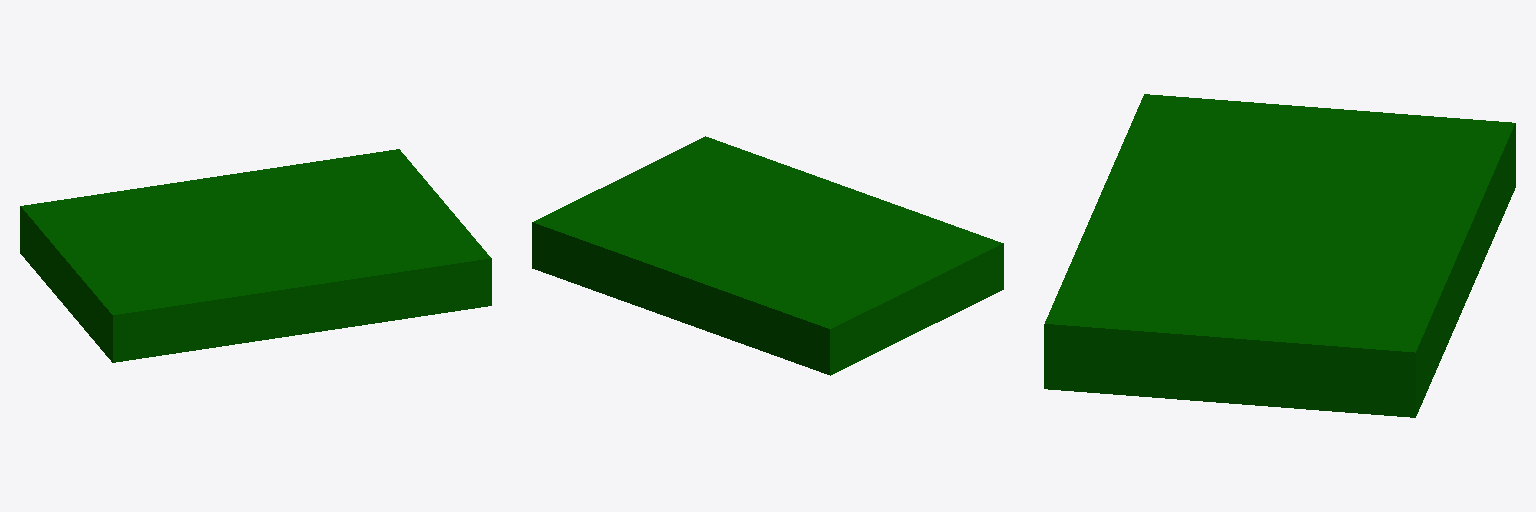
The robot description file, URDF, robot "Interference":
<?xml version="1.0"?>
<robot name="Interference">
  <link name="baseLink">
    <inertial>
      <origin xyz="0.0 0.0 0.0" rpy="0.0 0.0 0.0"/>
      <inertia ixx="0.0" ixy="0.0" ixz="0.0" iyy="0.0" iyz="0.0" izz="0.0"/>
      <mass value="0"/>
    </inertial>
    <visual>
      <origin xyz="0.0 0.0 0.0" rpy="0.0 0.0 -0.1814076904660471"/>
      <geometry>
        <box size="0.07658630712479349 0.052307800261831745 0.01"/>
      </geometry>
      <material name="color">
        <color rgba="0.038958809383764725 0.41233944295717306 0.010130400633008296 1.0"/>
      </material>
    </visual>
  </link>
</robot>

--- Facts derived from the render (not from the file) ---
Views: 3 orthographic renders of the robot side by side, from view 1: azimuth 30°, elevation 25°; view 2: azimuth 150°, elevation 25°; view 3: azimuth 270°, elevation 25°.
Robot: Interference — 1 links, 0 joints (none); root link baseLink; default pose: every joint at zero.
Links seen in each view (by area): view 1: baseLink; view 2: baseLink; view 3: baseLink.
Boxes of the visible links, left/top/right/bottom form: baseLink: left=20, top=149, right=491, bottom=362; baseLink: left=532, top=136, right=1003, bottom=375; baseLink: left=1044, top=94, right=1515, bottom=417.
Bounding box of the posed robot: 0.0848 × 0.0653 × 0.01 m (x, y, z).
Geometry: primitives only (box / cylinder / sphere), no mesh files.